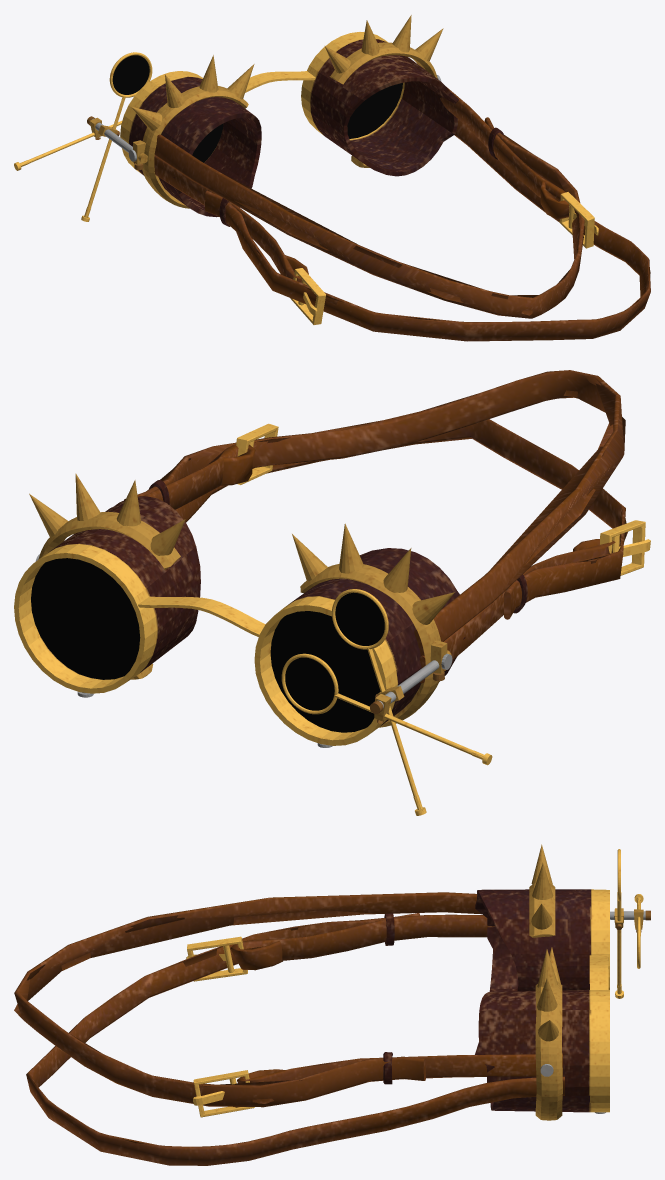
Rendered from LowPoly_SteampunkGlasses.fbx.
The picture shows the model from 3 angles, top to bottom: view 1: azimuth 30°, elevation 25°; view 2: azimuth 150°, elevation 25°; view 3: azimuth 270°, elevation 25°; orthographic projection. The views are drawn at different scales.
Visible parts, largest first — view 1: LowPoly2; view 2: LowPoly2; view 3: LowPoly2.
Part boxes in pixels (x1,y1,x2,y2): LowPoly2: (14,15,650,341); LowPoly2: (14,370,650,815); LowPoly2: (14,844,650,1165).
Bounding box in the file's own units: 3251 × 1270 × 3995.
